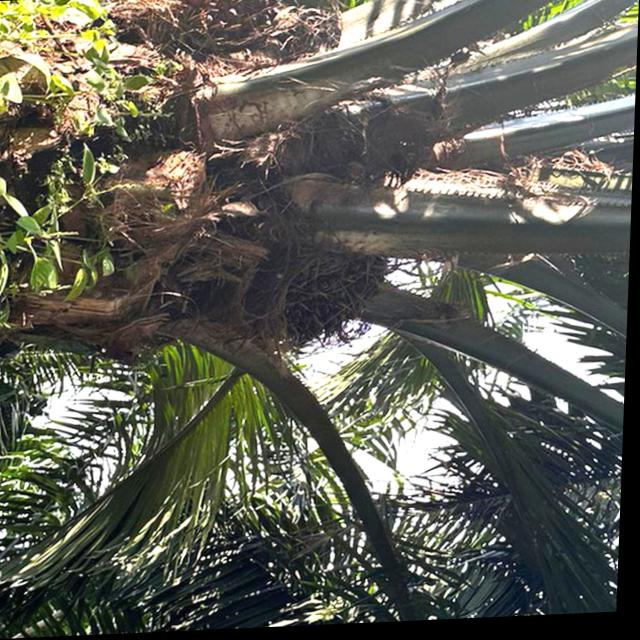unripe: (245, 228, 402, 372)
